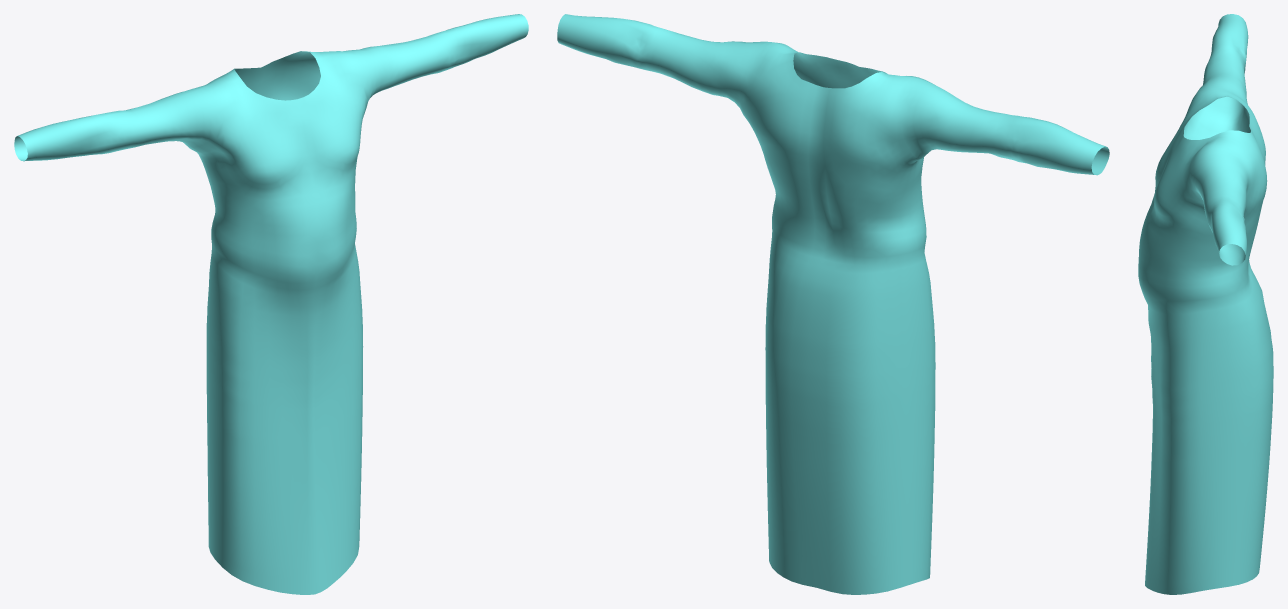
File: kittelFinalMesh.fbx
3 renders of one model, left to right at view 1: azimuth 30°, elevation 25°; view 2: azimuth 150°, elevation 25°; view 3: azimuth 270°, elevation 25°, orthographic. The views are drawn at different scales.
Visible parts, largest first — view 1: m_avg1; view 2: m_avg1; view 3: m_avg1.
Boxes of the visible parts, box(x1,y1,x2,y2) form: m_avg1: box(14, 14, 528, 594); m_avg1: box(557, 14, 1109, 594); m_avg1: box(1138, 14, 1273, 594).
Bounding box in the file's own units: 141 × 134 × 34.95.
